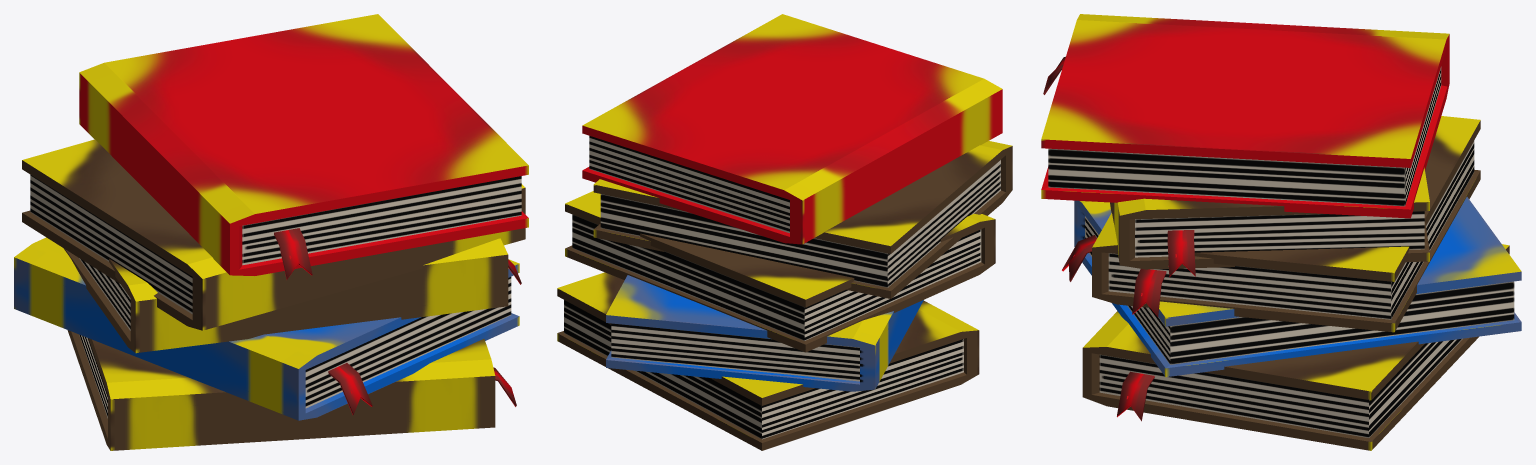
The model's file is Stacked books 2.glb.
3 renders of one model, left to right at view 1: azimuth 30°, elevation 25°; view 2: azimuth 150°, elevation 25°; view 3: azimuth 270°, elevation 25°, orthographic. The views are drawn at different scales.
Visible parts, largest first — view 1: Cube.009; view 2: Cube.009; view 3: Cube.009.
Boxes of the visible parts, x1,y1,x2,y2 form: Cube.009: [14, 14, 528, 450]; Cube.009: [557, 14, 1012, 450]; Cube.009: [1041, 14, 1521, 450].
Bounding box in the file's own units: 0.3355 × 0.2154 × 0.3494.
Materials: 5 (5 with a texture image).
